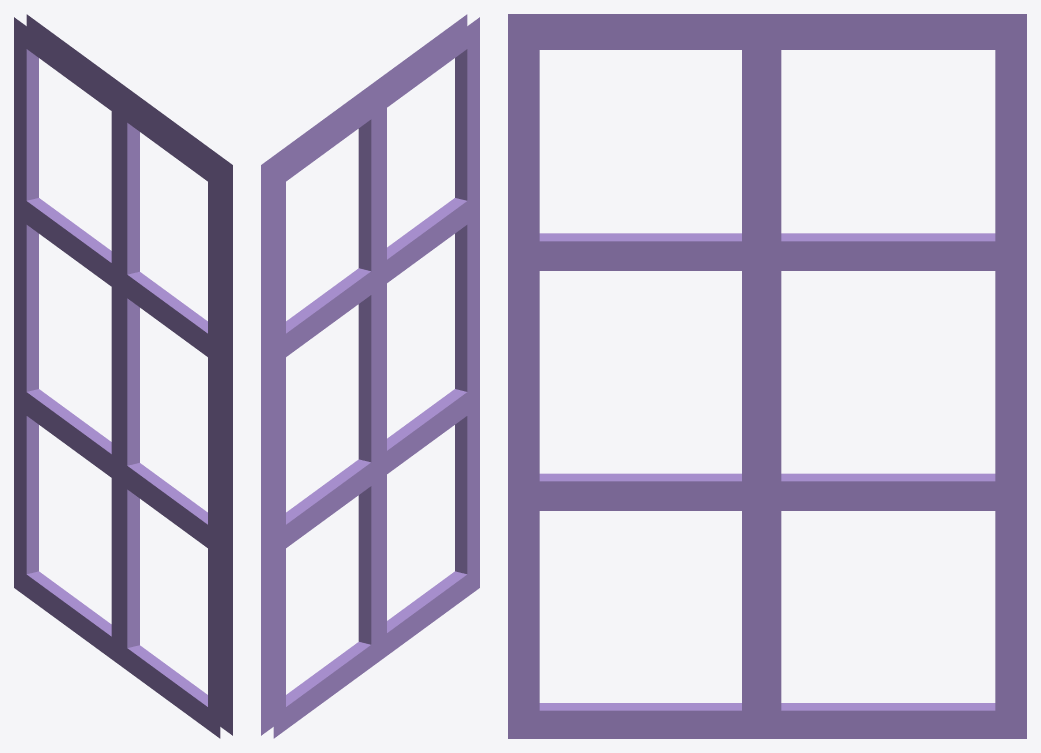
The model's file is fenetre.obj.
The picture shows the model from 3 angles, left to right: view 1: azimuth 30°, elevation 25°; view 2: azimuth 150°, elevation 25°; view 3: azimuth 270°, elevation 25°; orthographic projection. The views are drawn at different scales.
Parts seen in each view (by area): view 1: fenetre3; view 2: fenetre3; view 3: fenetre3.
Part boxes in pixels (x1,y1,x2,y2): fenetre3: (14, 14, 232, 738); fenetre3: (261, 14, 479, 738); fenetre3: (508, 14, 1026, 738).
Size of the model in its own units: 5 by 218 by 143.
